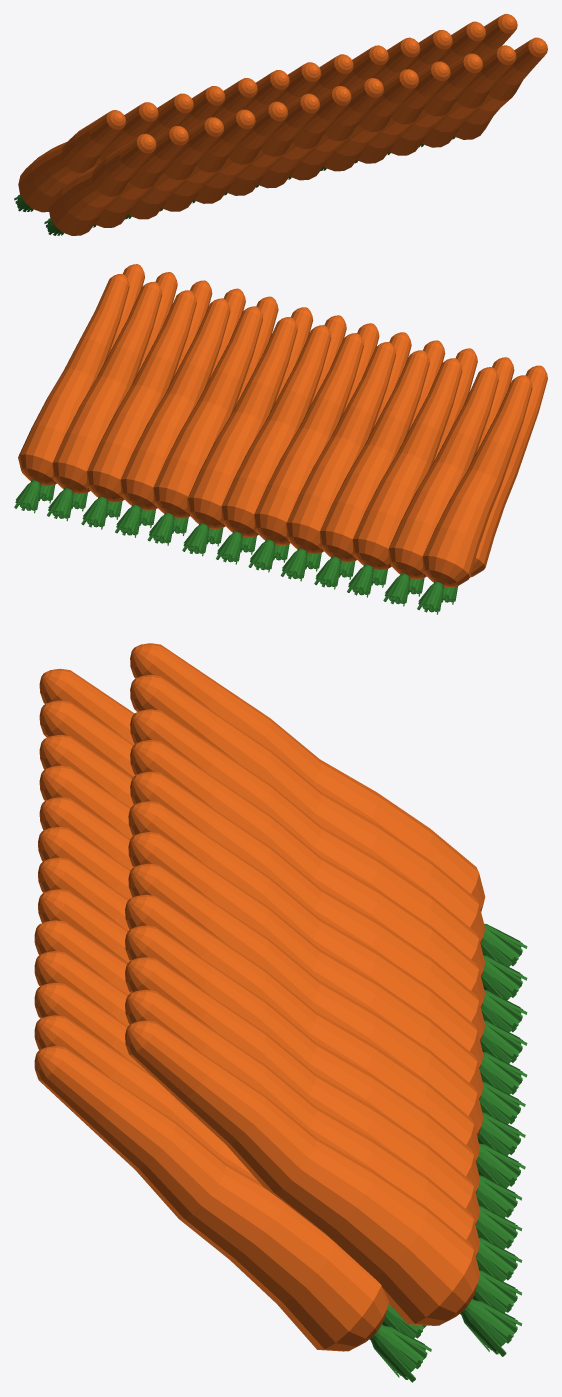
File: carrotStack.fbx
The picture shows the model from 3 angles, top to bottom: view 1: azimuth 30°, elevation 25°; view 2: azimuth 150°, elevation 25°; view 3: azimuth 270°, elevation 25°; orthographic projection. The views are drawn at different scales.
Parts seen in each view (by area): view 1: Carrot.120; view 2: Carrot.120; view 3: Carrot.120.
Part boxes in pixels (x1,y1,x2,y2): Carrot.120: [14, 14, 547, 235]; Carrot.120: [14, 264, 547, 614]; Carrot.120: [34, 643, 527, 1382].
Size of the model in its own units: 1300 by 492 by 627.
